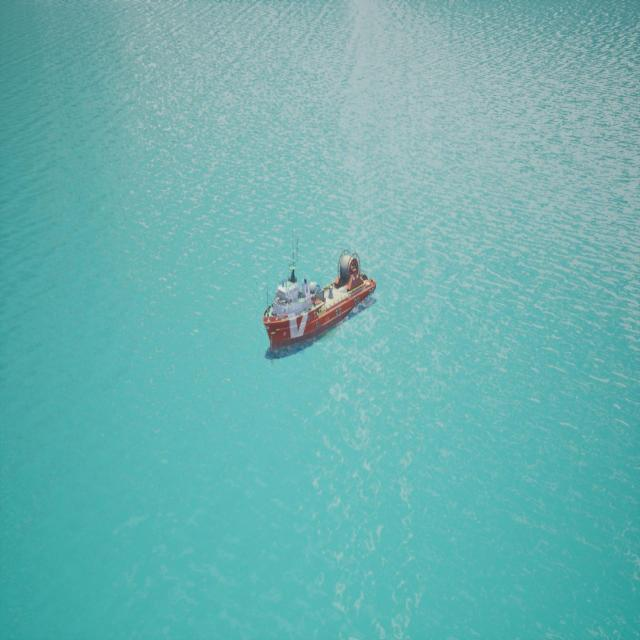tug boat: (263, 252, 377, 360)
